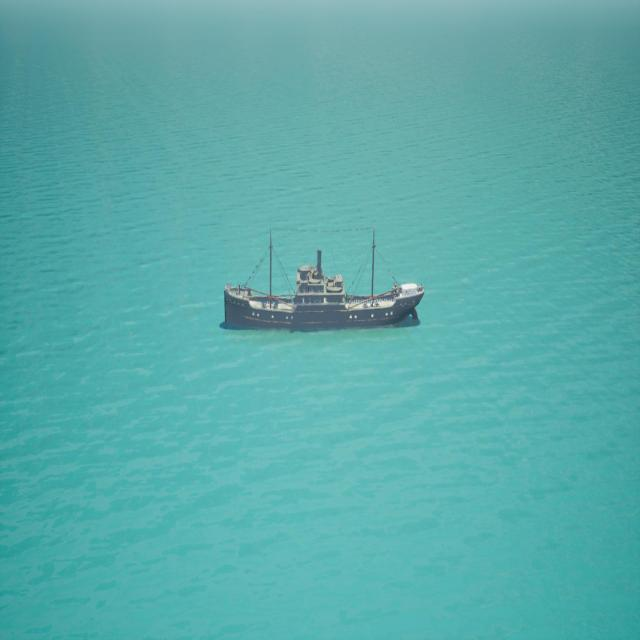fishing ship: (225, 229, 424, 333)
